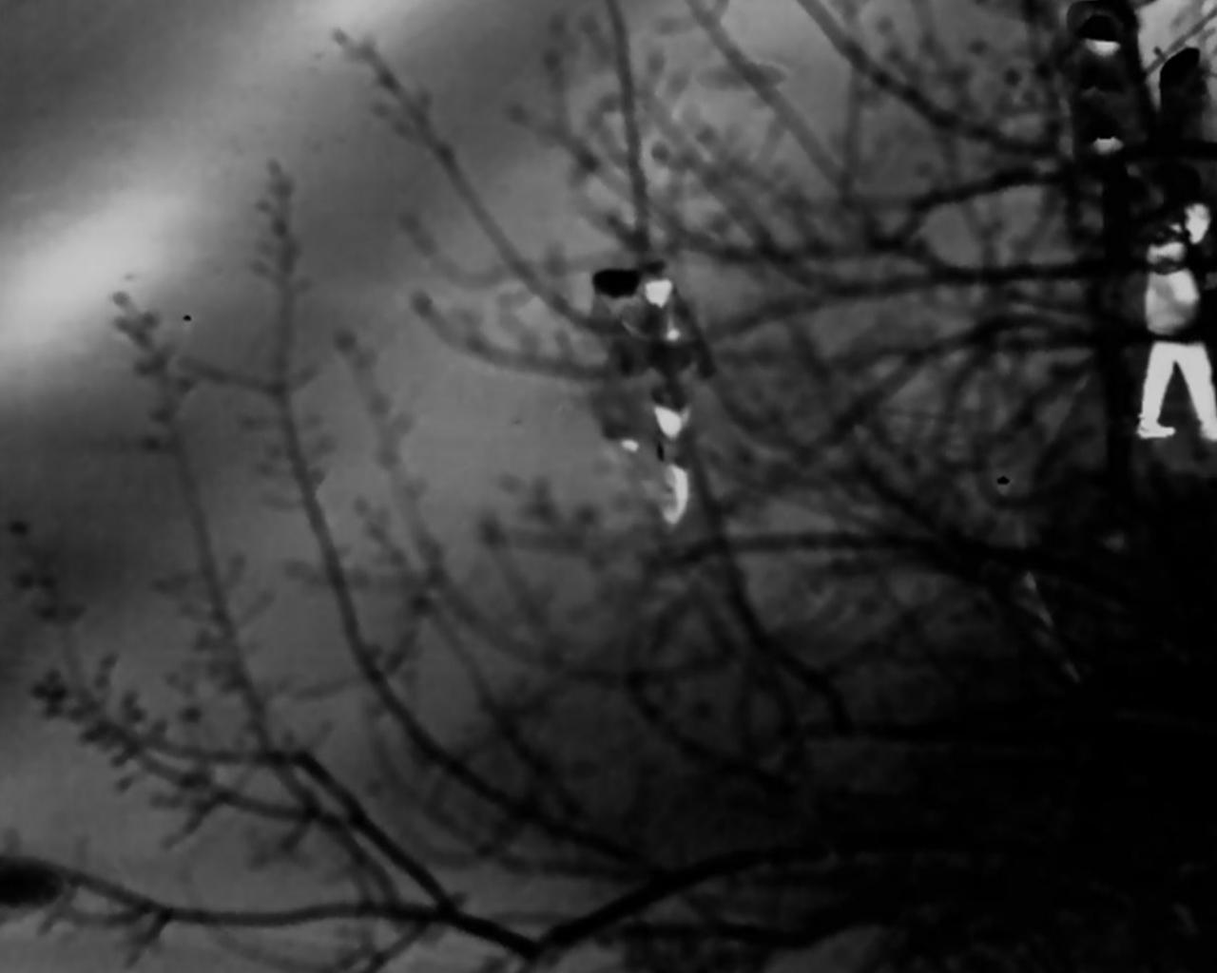person: (624, 267, 731, 516), (1132, 200, 1217, 446)
